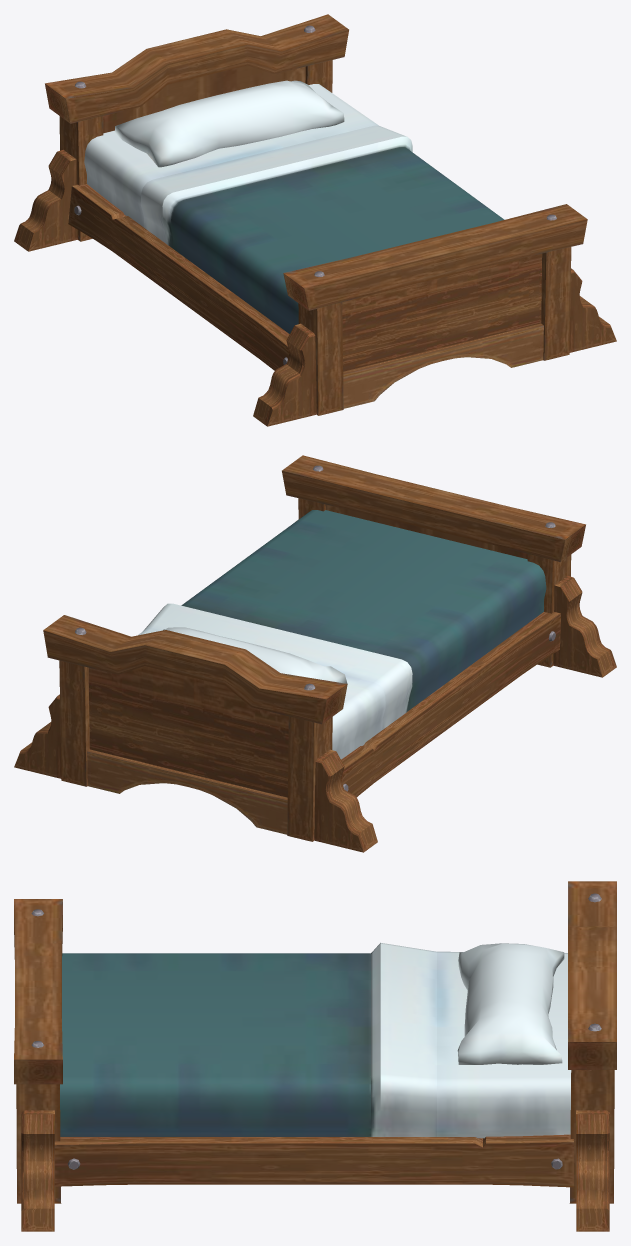
The model's file is bed-twin1.glb.
The picture shows the model from 3 angles, top to bottom: view 1: azimuth 30°, elevation 25°; view 2: azimuth 150°, elevation 25°; view 3: azimuth 270°, elevation 25°; orthographic projection. The views are drawn at different scales.
Visible parts, largest first — view 1: Bed_Twin1; view 2: Bed_Twin1; view 3: Bed_Twin1.
Boxes of the visible parts, x1=… form: Bed_Twin1: x1=14, y1=14, x2=616, y2=426; Bed_Twin1: x1=14, y1=455, x2=616, y2=852; Bed_Twin1: x1=14, y1=881, x2=616, y2=1231.
Size of the model in its own units: 1.88 by 0.8051 by 2.41.
Materials: 3 (3 with a texture image).
